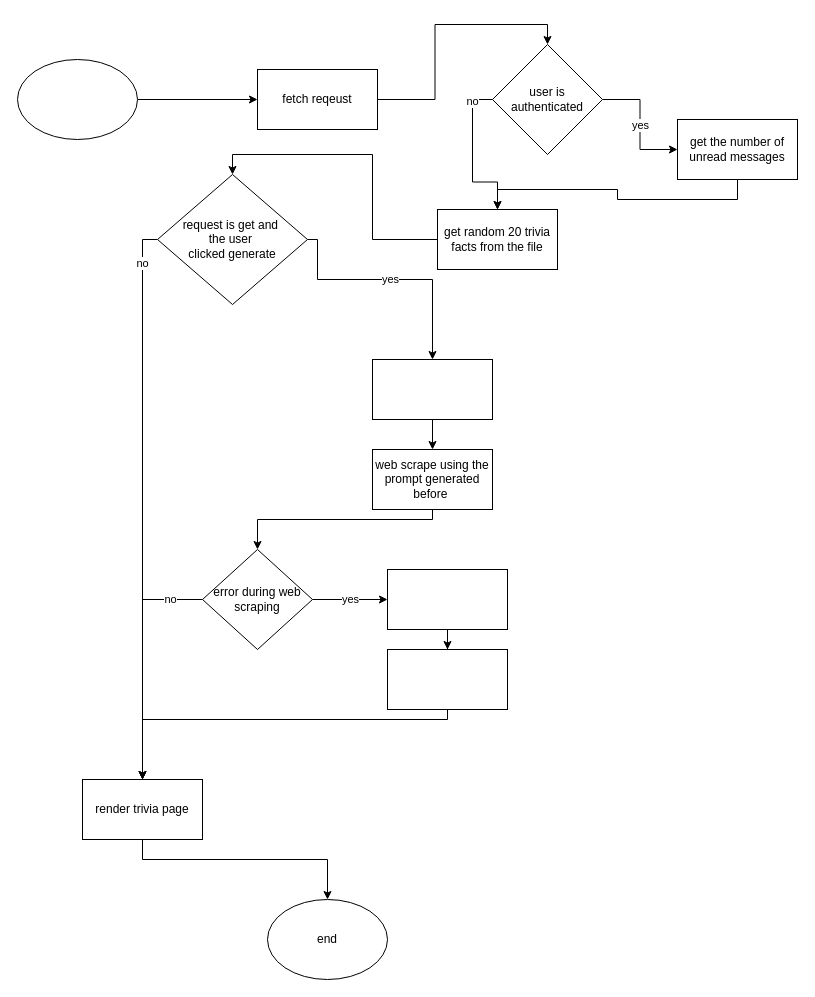
Image size: 815x997. Some labels were removed from this diagram. The centre of each missing label's shape, as x and y in pixels:
generate a prompt for the AI model: the point at 432,389
start: the point at 77,99
strip answers into lines: the point at 447,679
use the local LLM with the same prompt from before: the point at 447,599
